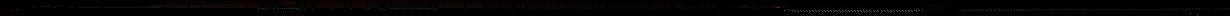Blue cone: (32, 7, 37, 8), (39, 6, 44, 7), (15, 9, 19, 10)
Yellow cone: (278, 2, 302, 6), (782, 6, 788, 8)
